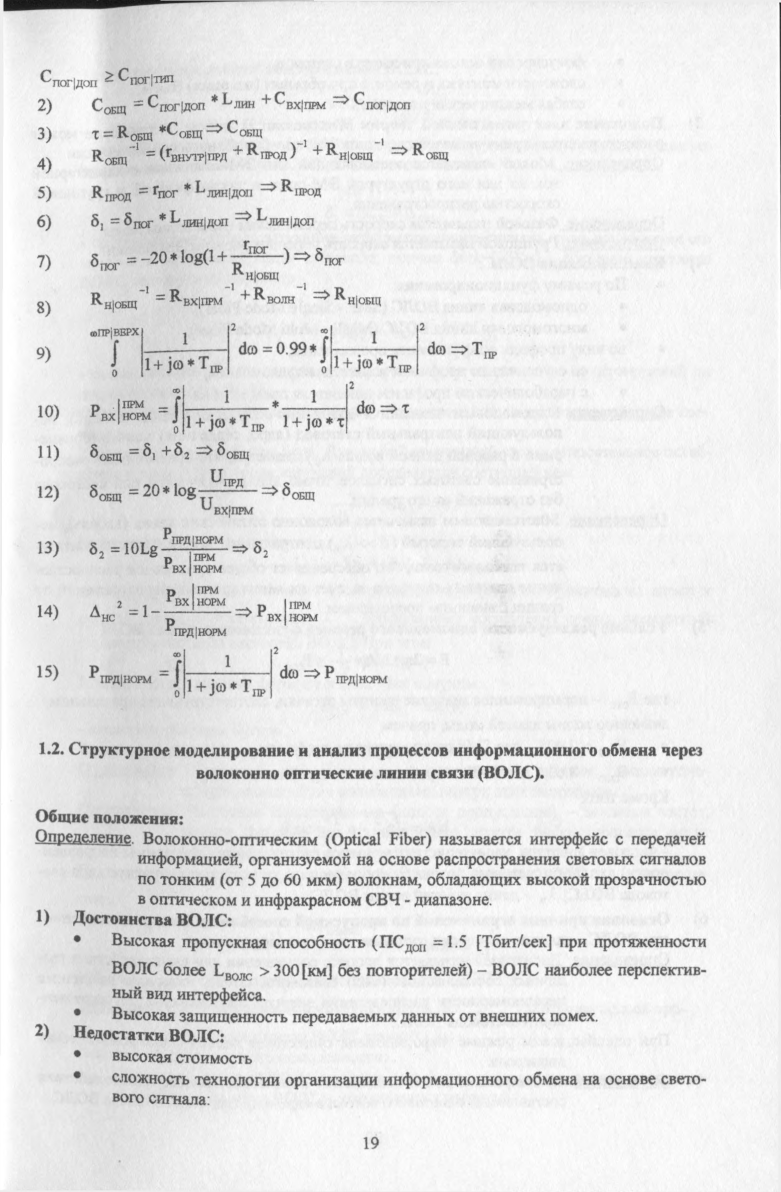C.вх.прм: (273, 85, 328, 114)
C.общ: (90, 94, 128, 116), (165, 121, 204, 140)
C.пог.доп: (147, 93, 207, 113)
L.лин: (219, 88, 259, 111)
L.лин.доп: (196, 176, 251, 201), (172, 205, 227, 229)
P.вх.прм.норм: (164, 585, 231, 609), (95, 402, 148, 428), (164, 553, 221, 576)
P.прд.норм: (85, 659, 150, 686), (160, 522, 227, 545), (163, 617, 226, 640)
R.волн: (253, 282, 297, 305)
R.вх.прм: (169, 286, 223, 310)
R.н.общ: (228, 259, 284, 281), (89, 288, 137, 311), (320, 141, 373, 160)
R.общ: (114, 121, 154, 142), (88, 149, 132, 168)
R.прод: (88, 183, 135, 201), (248, 139, 285, 160)
T.пр: (236, 409, 265, 436), (389, 353, 411, 376), (197, 355, 221, 376), (243, 680, 267, 701)
U.вх.прм: (198, 497, 250, 516)
U.прд: (208, 460, 243, 489)
r.внутр.прд: (166, 145, 224, 162)
r.пог: (239, 238, 269, 253), (150, 186, 179, 201)
Δ.нс: (85, 602, 113, 624)
δ.1: (142, 441, 158, 466), (89, 210, 104, 232)
δ.2: (176, 441, 190, 466), (87, 539, 102, 559)
δ.общ: (84, 441, 125, 463), (87, 484, 123, 506)
δ.пог: (90, 249, 120, 272), (123, 207, 152, 229)
τ: (91, 128, 102, 143), (335, 416, 345, 431)
ω.пр.верх: (88, 326, 140, 335)
